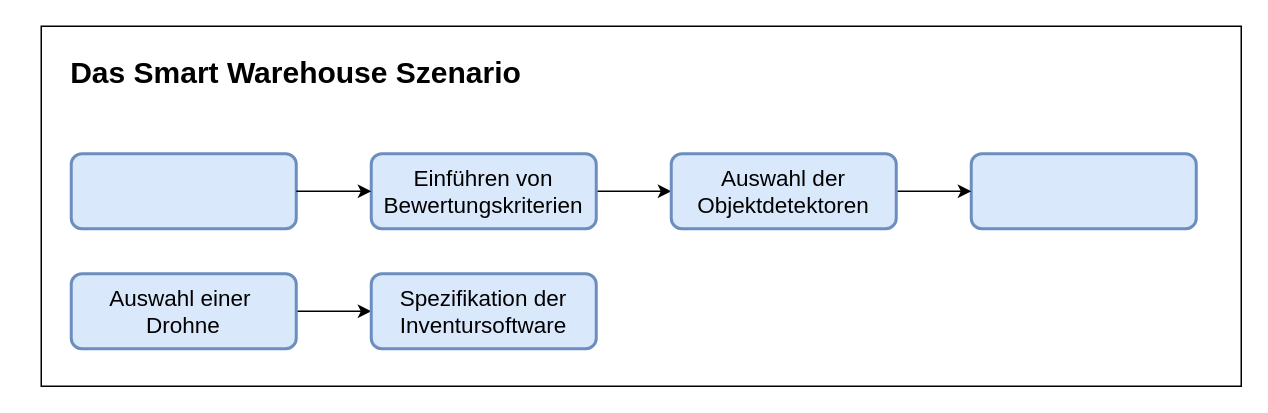
This 1268x413 diagram has some shape labels left out. The shapes that lost their labels are listed below. From the top down, each one's centre as x and y in pixels, then its label:
At (x=183, y=191): "Erstellen eines Trainingsdatensatz".
At (x=1083, y=191): "Auswahl einer Trainingsinfrastruktur".
